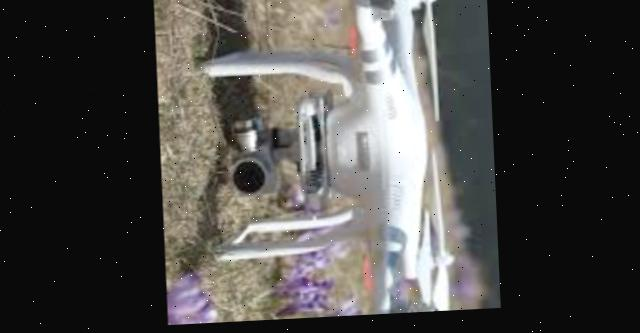drone: (192, 0, 492, 325)
